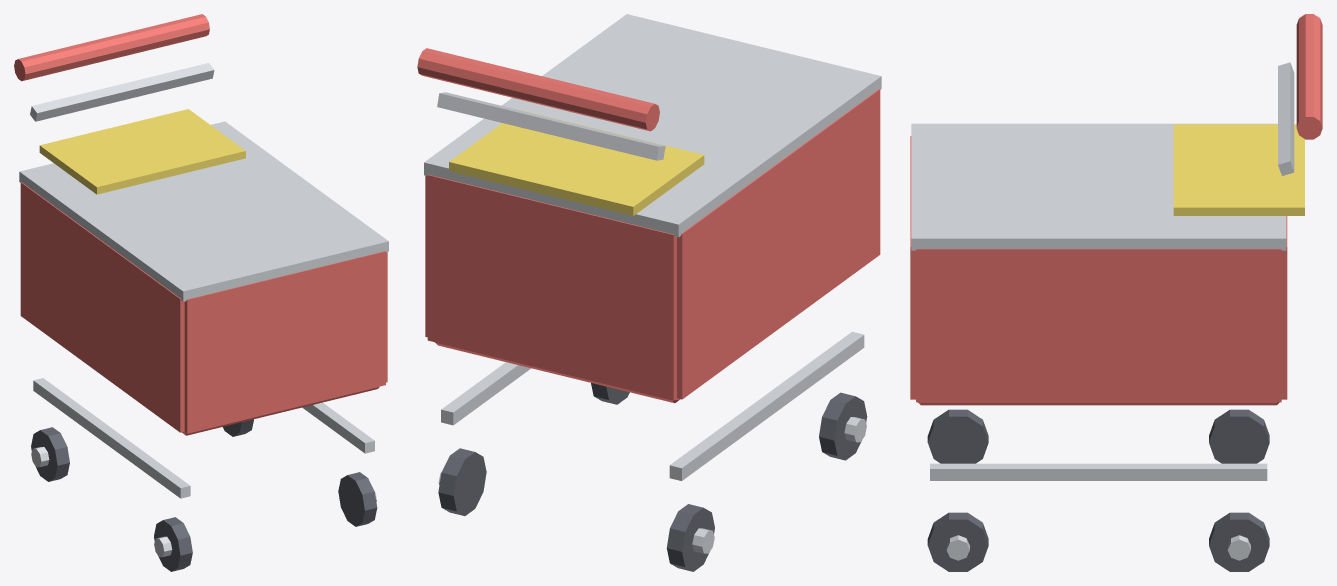
Rendered from Carrito.fbx.
The picture shows the model from 3 angles, left to right: view 1: azimuth 30°, elevation 25°; view 2: azimuth 150°, elevation 25°; view 3: azimuth 270°, elevation 25°; orthographic projection. The views are drawn at different scales.
Parts seen in each view (by area): view 1: Carrito | Borde cesta, Carrito | Frente cesta, Carrito | Lateral cesta, Carrito | Asiento, Carrito | Manillar, Carrito | Pata chasis, Carrito | Soporte manillar, Carrito | Rueda.002, Carrito | Rueda.001, Carrito | Rueda, Carrito | Pata chasis.001, Carrito | Fondo cesta; view 2: Carrito | Frente cesta.001, Carrito | Borde cesta, Carrito | Lateral cesta, Carrito | Asiento, Carrito | Manillar, Carrito | Pata chasis, Carrito | Soporte manillar, Carrito | Rueda.003, Carrito | Rueda.001, Carrito | Rueda, Carrito | Pata chasis.001, Carrito | Fondo cesta; view 3: Carrito | Lateral cesta.001, Carrito | Borde cesta, Carrito | Asiento, Carrito | Pata chasis.001, Carrito | Manillar, Carrito | Rueda, Carrito | Rueda.001, Carrito | Rueda.002, Carrito | Rueda.003, Carrito | Soporte manillar, Carrito | Fondo cesta, Carrito | Frente cesta (+1 smaller).
Part boxes in pixels (x1,y1,x2,y2): Carrito | Borde cesta: [19, 121, 388, 301]; Carrito | Frente cesta: [184, 251, 385, 433]; Carrito | Lateral cesta: [20, 182, 184, 432]; Carrito | Asiento: [39, 109, 245, 194]; Carrito | Manillar: [14, 14, 209, 81]; Carrito | Pata chasis: [33, 378, 190, 498]; Carrito | Soporte manillar: [30, 63, 214, 121]; Carrito | Rueda.002: [338, 472, 377, 526]; Carrito | Rueda.001: [31, 427, 69, 481]; Carrito | Rueda: [154, 517, 192, 571]; Carrito | Pata chasis.001: [302, 402, 374, 453]; Carrito | Fondo cesta: [182, 386, 379, 435]; Carrito | Frente cesta.001: [427, 174, 676, 400]; Carrito | Borde cesta: [424, 14, 881, 237]; Carrito | Lateral cesta: [677, 89, 880, 399]; Carrito | Asiento: [449, 110, 704, 215]; Carrito | Manillar: [417, 48, 659, 131]; Carrito | Pata chasis: [669, 331, 864, 480]; Carrito | Soporte manillar: [437, 92, 665, 160]; Carrito | Rueda.003: [438, 448, 486, 515]; Carrito | Rueda.001: [666, 504, 714, 571]; Carrito | Rueda: [819, 392, 867, 460]; Carrito | Pata chasis.001: [441, 362, 530, 425]; Carrito | Fondo cesta: [435, 342, 680, 403]; Carrito | Lateral cesta.001: [916, 249, 1281, 402]; Carrito | Borde cesta: [911, 123, 1286, 250]; Carrito | Asiento: [1173, 124, 1304, 215]; Carrito | Pata chasis.001: [930, 463, 1267, 480]; Carrito | Manillar: [1296, 14, 1322, 139]; Carrito | Rueda: [927, 409, 988, 463]; Carrito | Rueda.001: [1209, 409, 1269, 463]; Carrito | Rueda.002: [927, 512, 988, 571]; Carrito | Rueda.003: [1209, 512, 1269, 571]; Carrito | Soporte manillar: [1278, 62, 1294, 175]; Carrito | Fondo cesta: [918, 402, 1279, 405]; Carrito | Frente cesta: [910, 136, 915, 399].
Size of the model in its own units: 0.6 by 1.06 by 0.8805.
